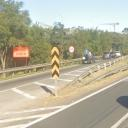speed_limit_40: (68, 46, 74, 53)
